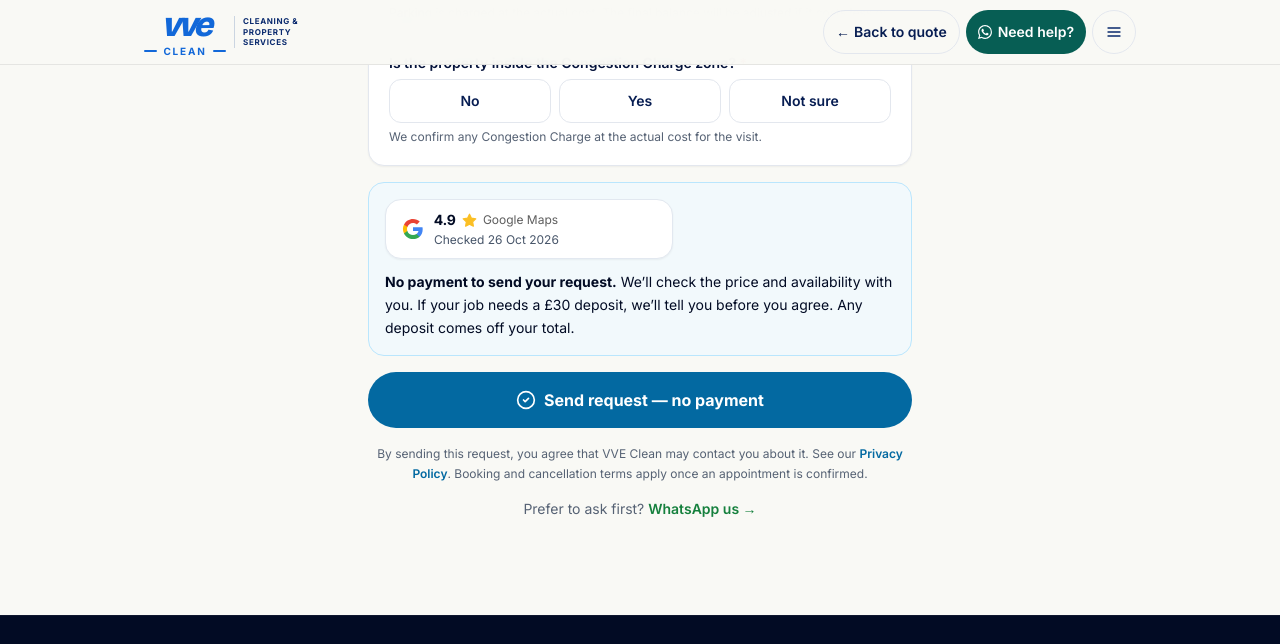
BookingPage — error summary › lists every outstanding problem after a blocked submit
The image size is (1280, 644).
(page scrolled)
Click the button "Send request — no payment": (640, 400) [368, 372, 912, 428]
(page scrolled)
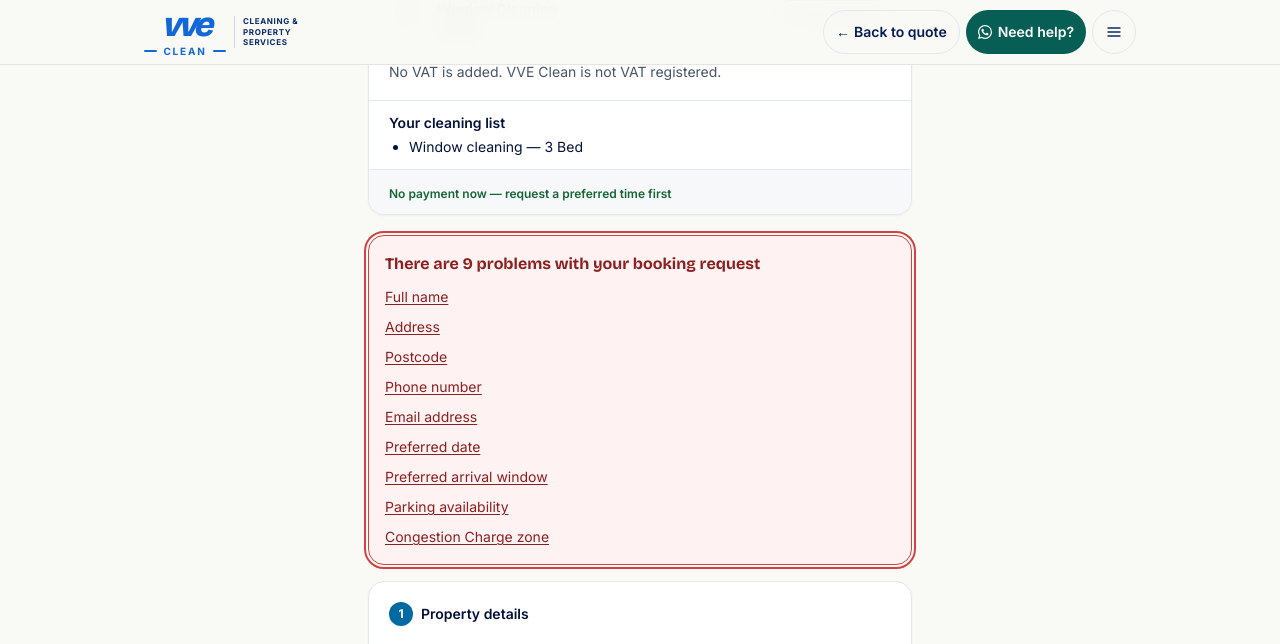
Now the heading "There are 9 problems with your booking request" is shown, box [385, 254, 760, 273]
